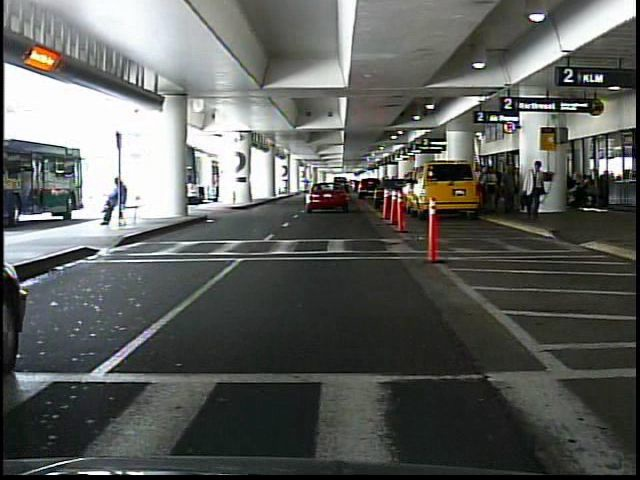person: (521, 159, 547, 217), (502, 163, 519, 219), (485, 166, 498, 211)
